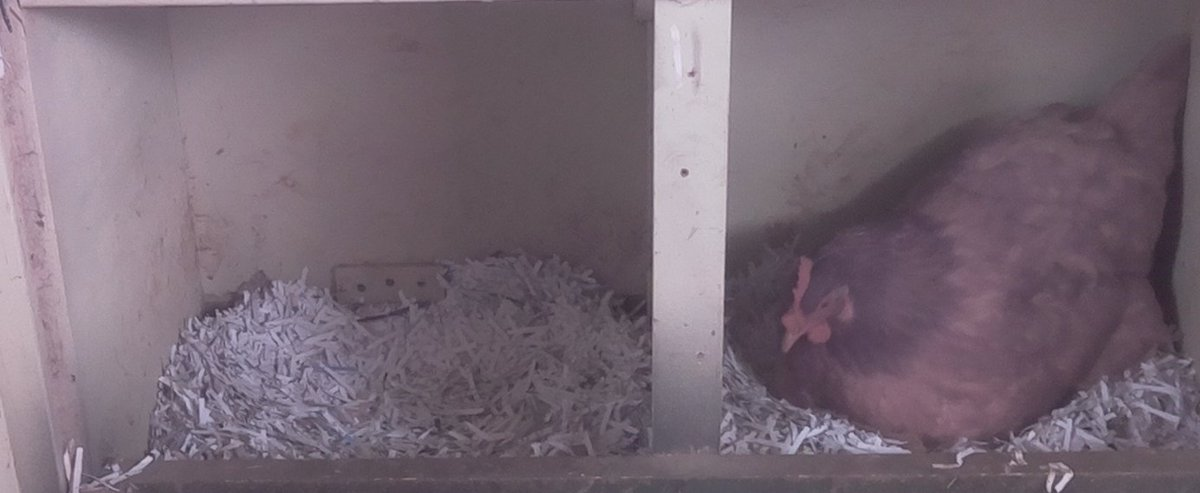hen: (740, 24, 1194, 447)
